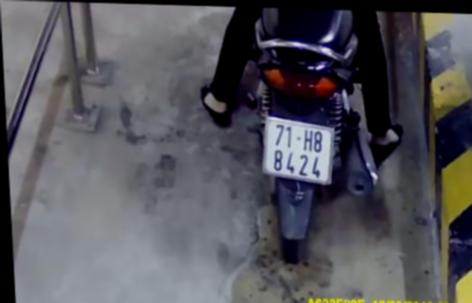License_Plate: (256, 112, 338, 192)
